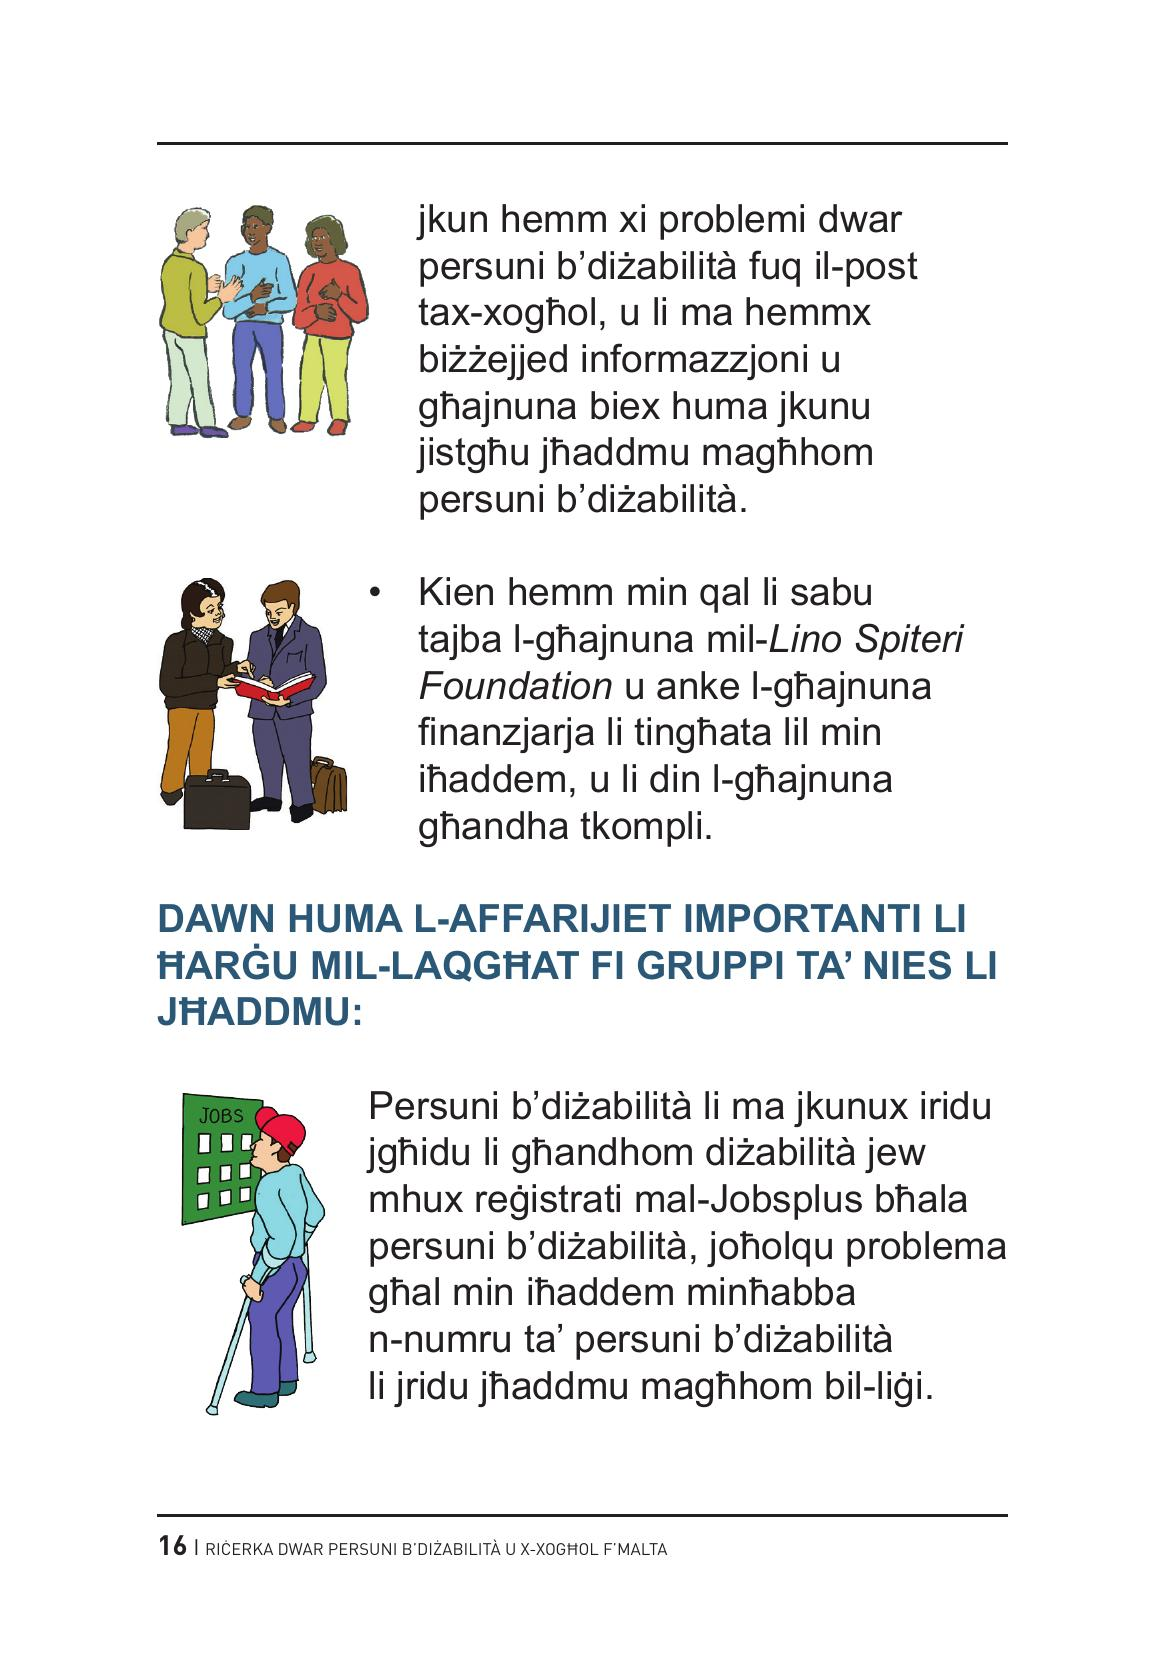text: (346, 1077, 1032, 1432), (403, 175, 964, 550), (344, 573, 999, 862), (110, 869, 1015, 1057)
